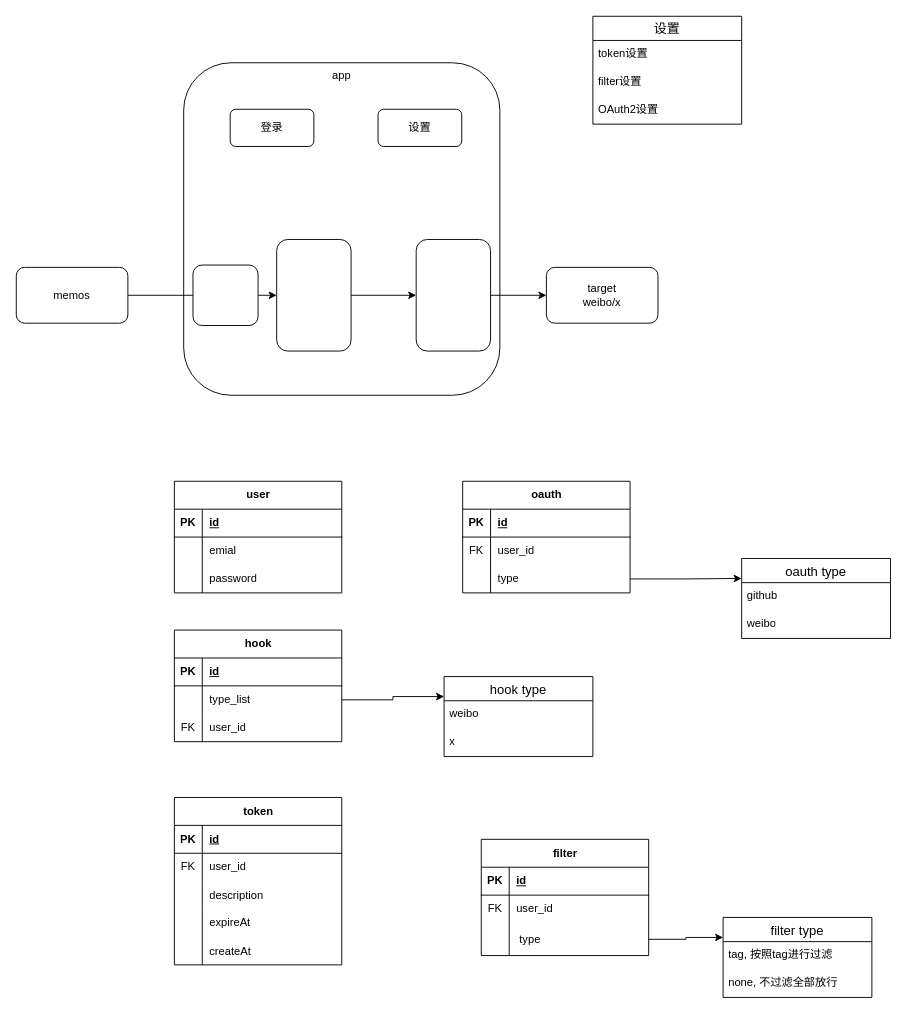
This 907x1016 diagram has some shape labels left out. Each missing label, with the centre of its shape:
"/hook memos webhook调用地址" goes at pixel 313 295.
"filter webhook调用后需要过滤才发送到对应平台中" goes at pixel 453 295.
"token auth" goes at pixel 225 295.
